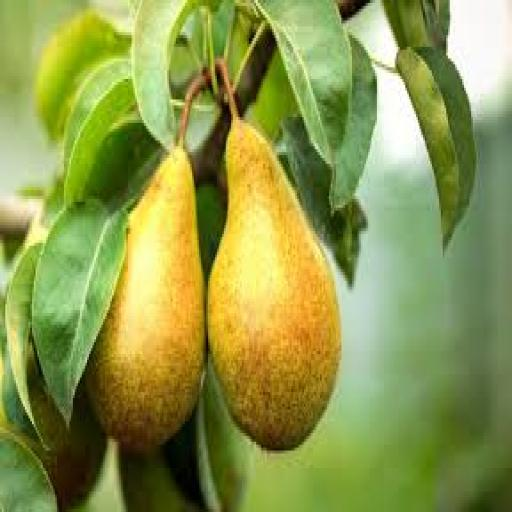pear: (79, 44, 348, 464)
